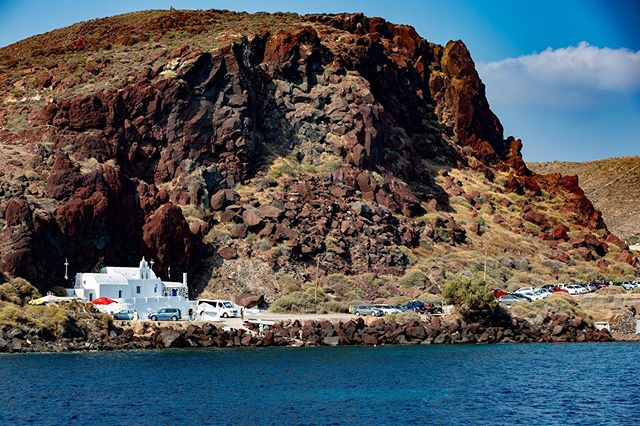building: (68, 258, 192, 314)
mountain: (13, 6, 504, 104)
sea: (1, 340, 640, 426)
sky: (469, 1, 640, 135)
